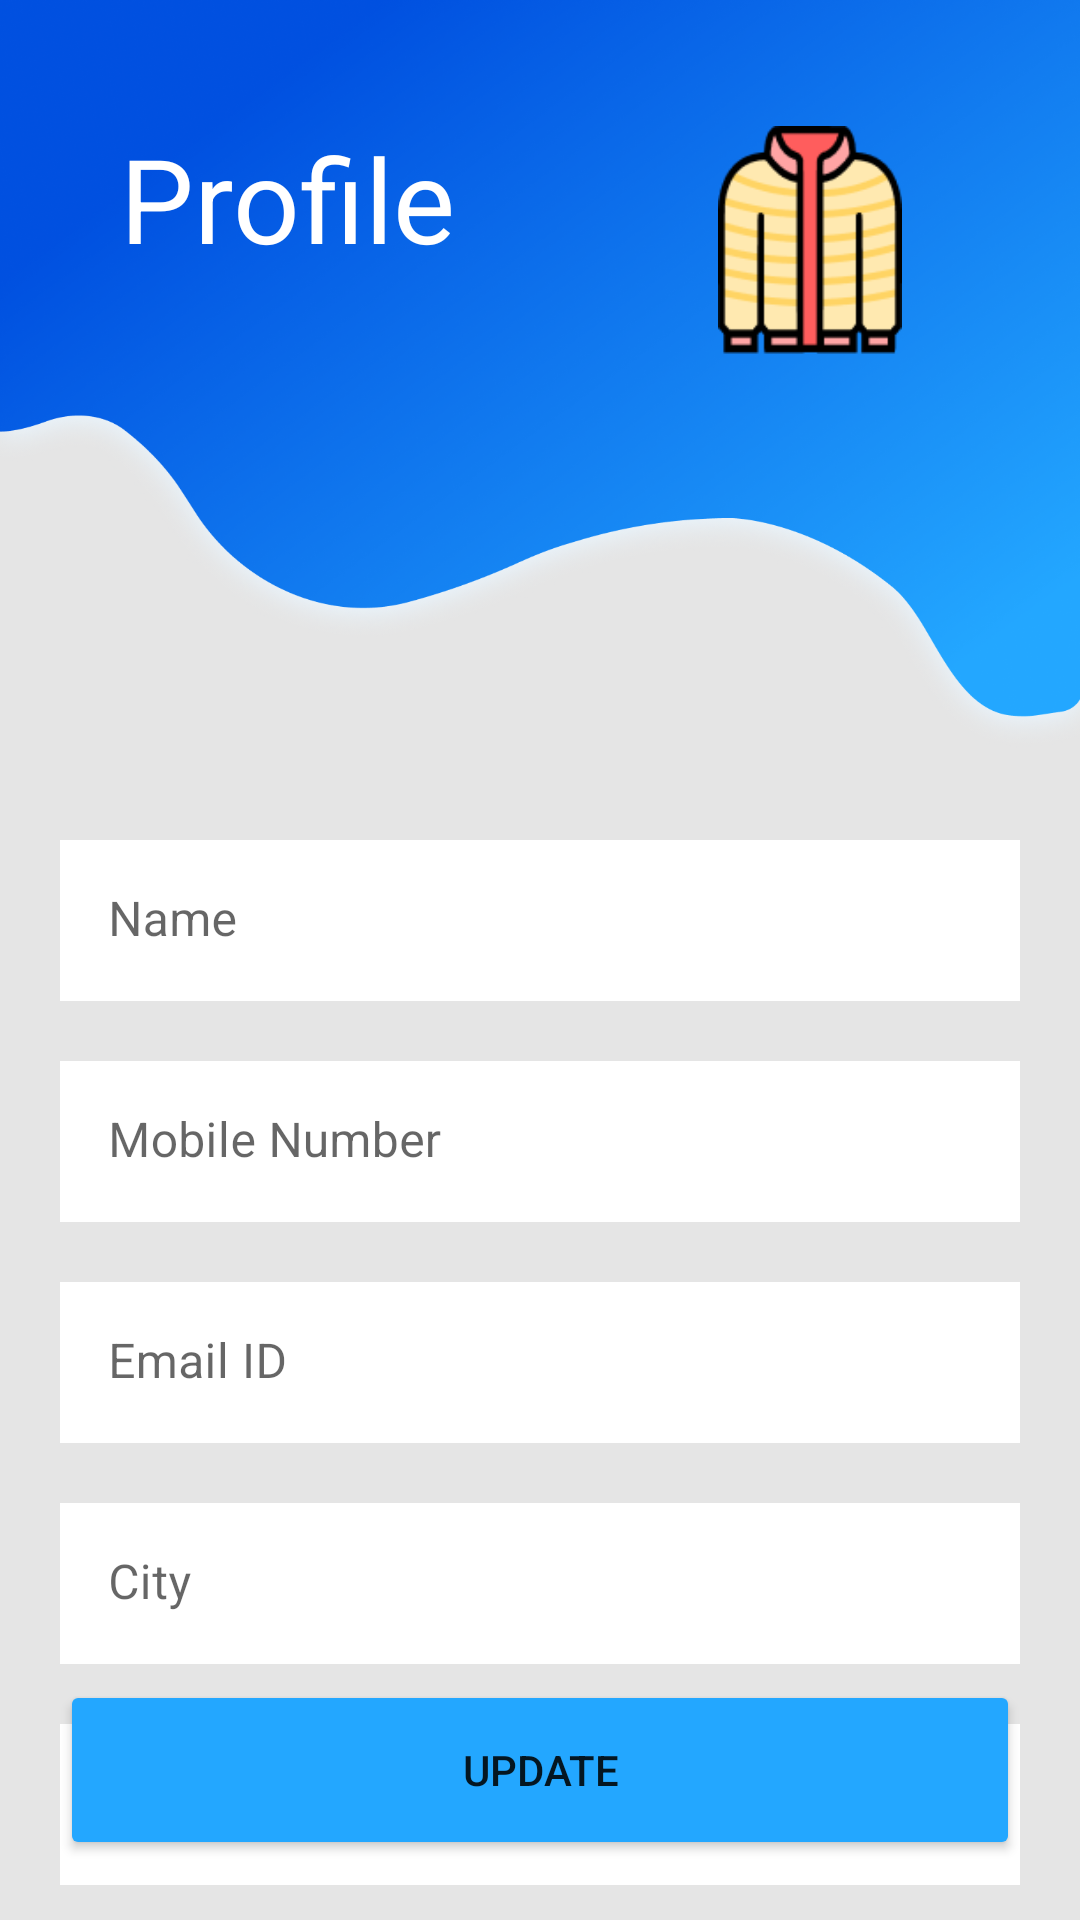

Icons on this 1080 × 1920 Android screen, each with its box as rect(x1, y1, x2, y2):
clothimg: rect(680, 98, 902, 354)
